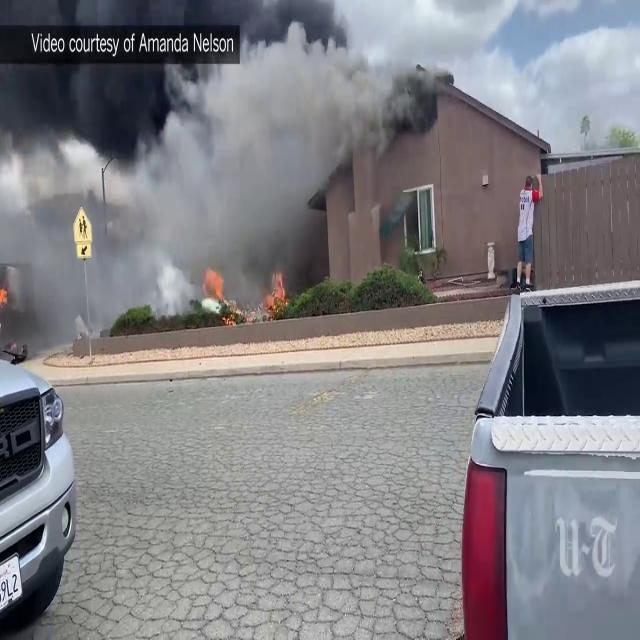Fire: (211, 272, 292, 324)
Smoke: (0, 0, 420, 305)
